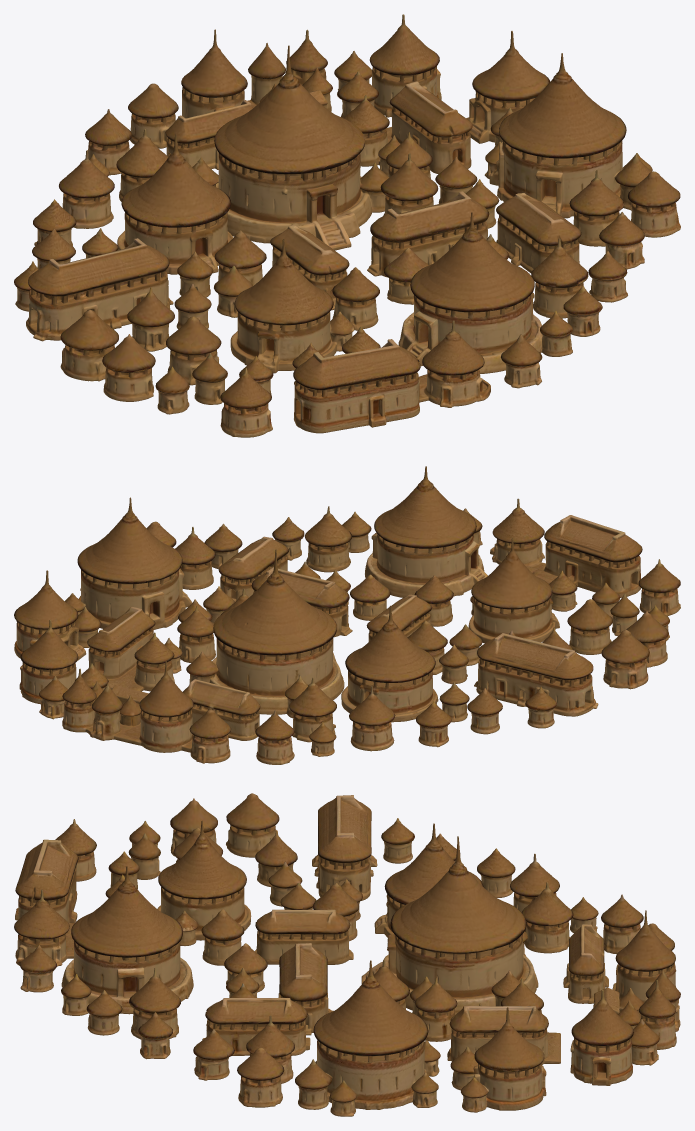
The model's file is Classical City East African.fbx.
3 renders of one model, top to bottom at view 1: azimuth 30°, elevation 25°; view 2: azimuth 150°, elevation 25°; view 3: azimuth 270°, elevation 25°, orthographic. The views are drawn at different scales.
Visible parts, largest first — view 1: tripo_node_1e0b71cd; view 2: tripo_node_1e0b71cd; view 3: tripo_node_1e0b71cd.
Part boxes in pixels (x1,y1,x2,y2): tripo_node_1e0b71cd: (14,14,680,437); tripo_node_1e0b71cd: (14,466,680,764); tripo_node_1e0b71cd: (14,793,680,1116).
Size of the model in its own units: 0.9968 by 0.2468 by 1.
